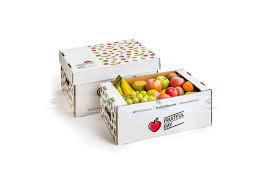box: (100, 69, 216, 147), (59, 38, 161, 119)
